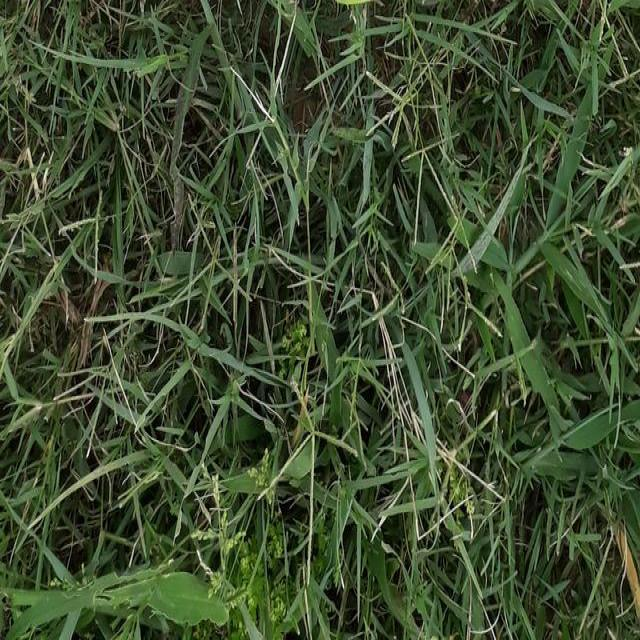weed: (70, 36, 420, 471), (378, 30, 640, 574), (58, 450, 282, 640)
